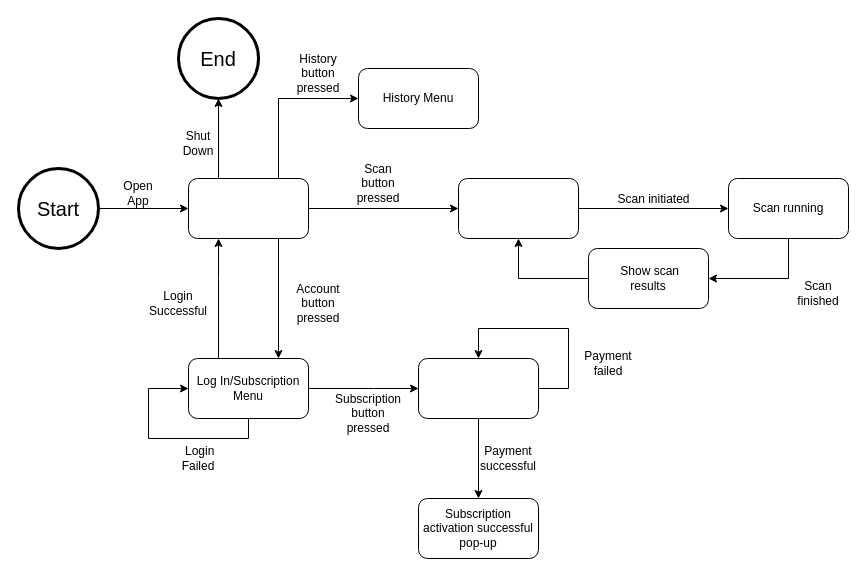
The diagram is 866 pixels wide and 576 high, and some of its shapes have lost their labels. Here are the shapes that lost their labels. From the top down, the box of each, then its label:
(188, 178, 308, 238): Main Menu
(458, 178, 578, 238): Scan Menu
(418, 358, 538, 418): Payment Page
